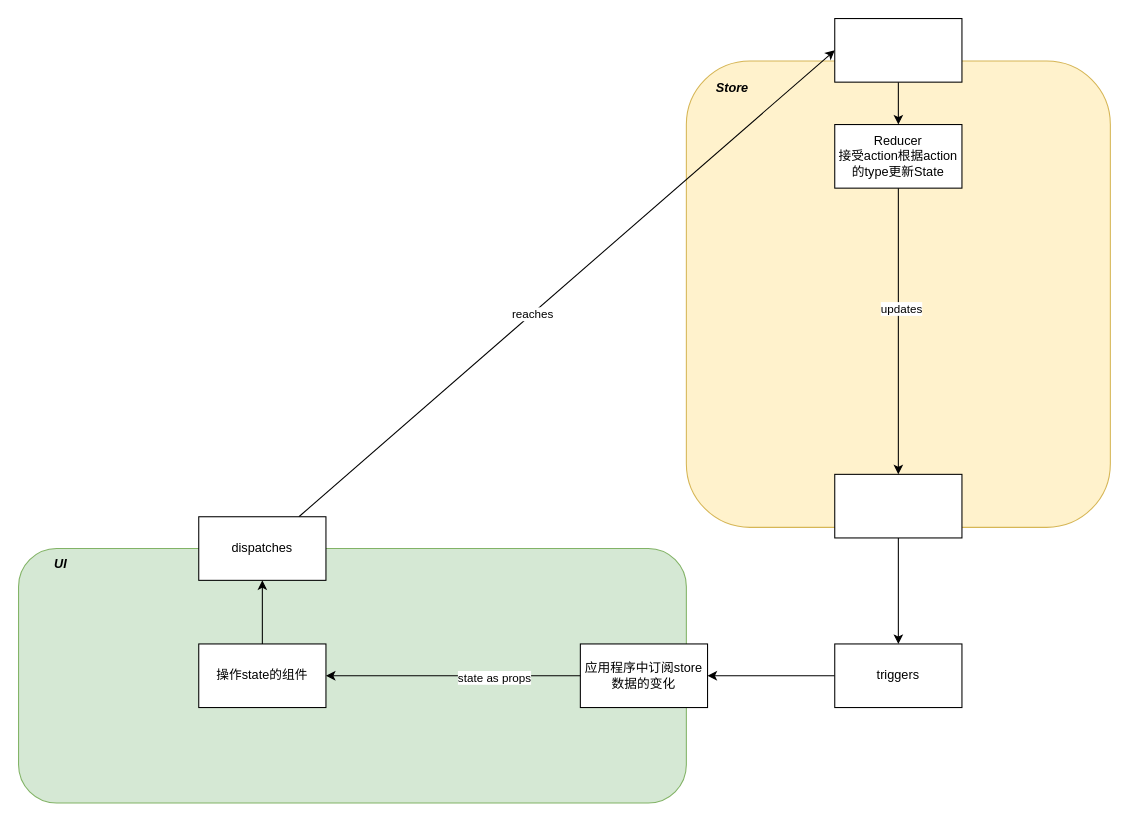
This 1129x821 diagram has some shape labels left out. Here are the shapes that lost their labels. From the top down, the centre of each, then its label:
(898,49): 提前定义好的 Action
(898,505): 整个应用程序的Store central store
